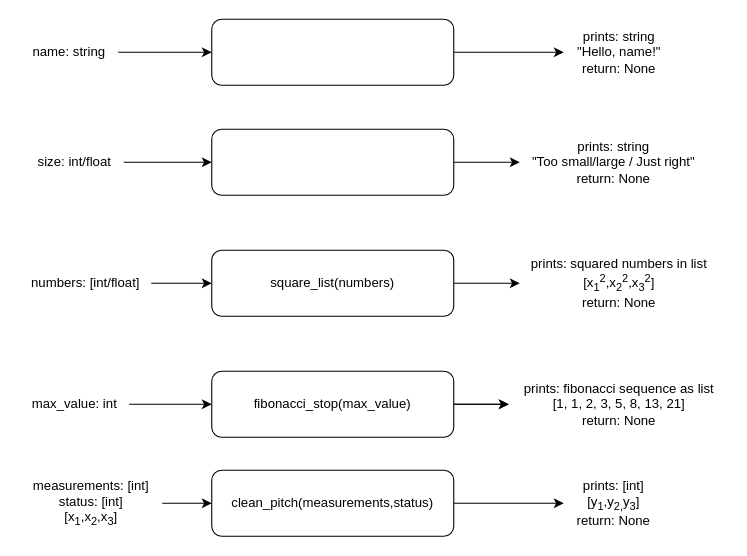
Some shapes in this 747 by 556 pixel diagram are drawn without their labels. Each missing label, with the centre of its shape:
goldilocks(size): point 332,161
greet(name): point 332,51
